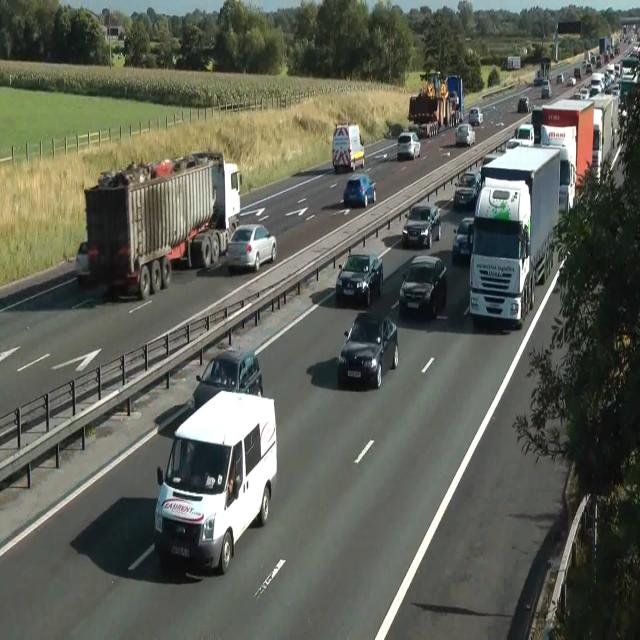bus: (337, 311, 399, 389), (191, 346, 263, 412), (335, 252, 383, 306), (225, 223, 277, 272), (402, 203, 442, 249), (343, 173, 376, 208), (452, 216, 474, 262), (454, 172, 481, 207), (506, 123, 534, 151), (75, 240, 91, 284), (396, 132, 421, 160), (455, 122, 475, 146), (469, 107, 483, 125), (482, 154, 498, 167), (517, 96, 529, 113), (541, 79, 551, 99), (582, 59, 592, 73), (533, 75, 545, 85), (566, 76, 576, 85), (556, 73, 564, 84)
jeep: (153, 388, 277, 574), (399, 254, 447, 318)
minibus: (76, 150, 242, 300), (468, 144, 560, 329), (538, 94, 618, 214), (408, 71, 464, 135), (332, 124, 364, 174), (507, 56, 521, 70)
